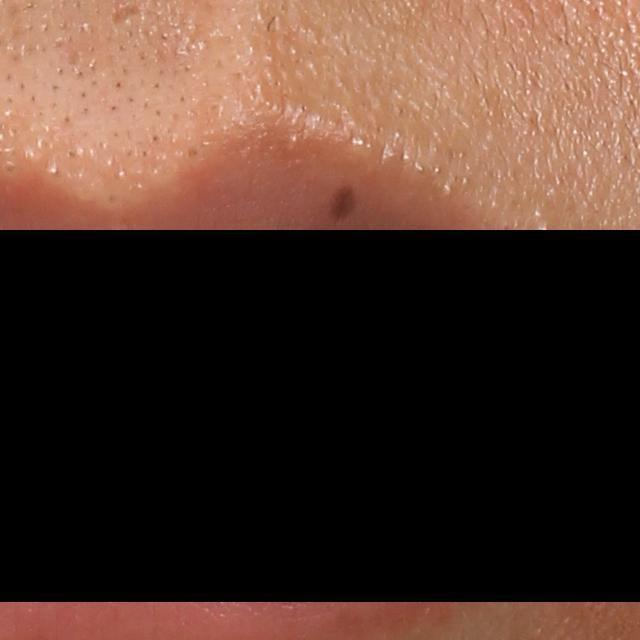nevus: (327, 180, 359, 223)
